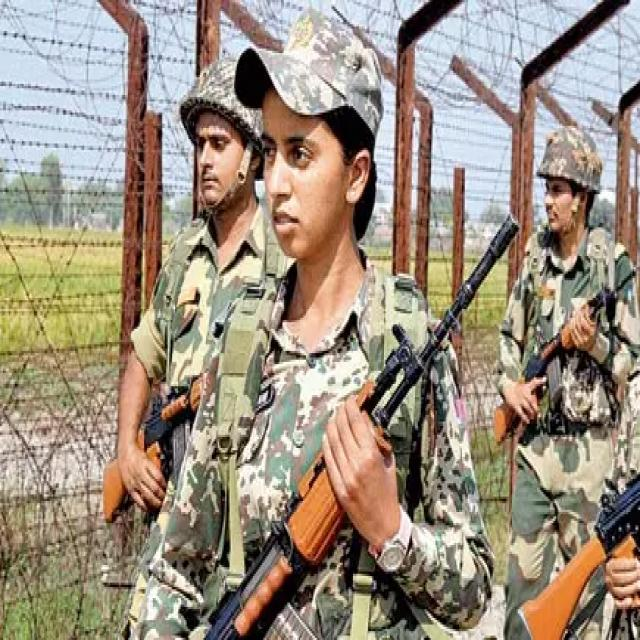Militant: (224, 0, 508, 640), (123, 70, 298, 640), (516, 120, 640, 640)
